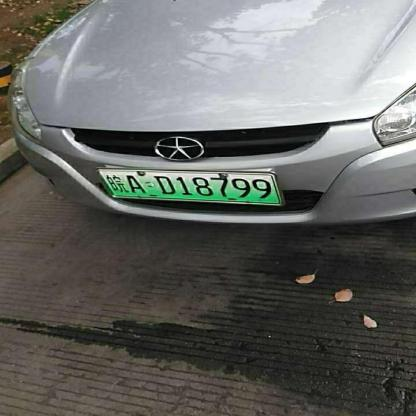lp: (99, 169, 279, 203)
